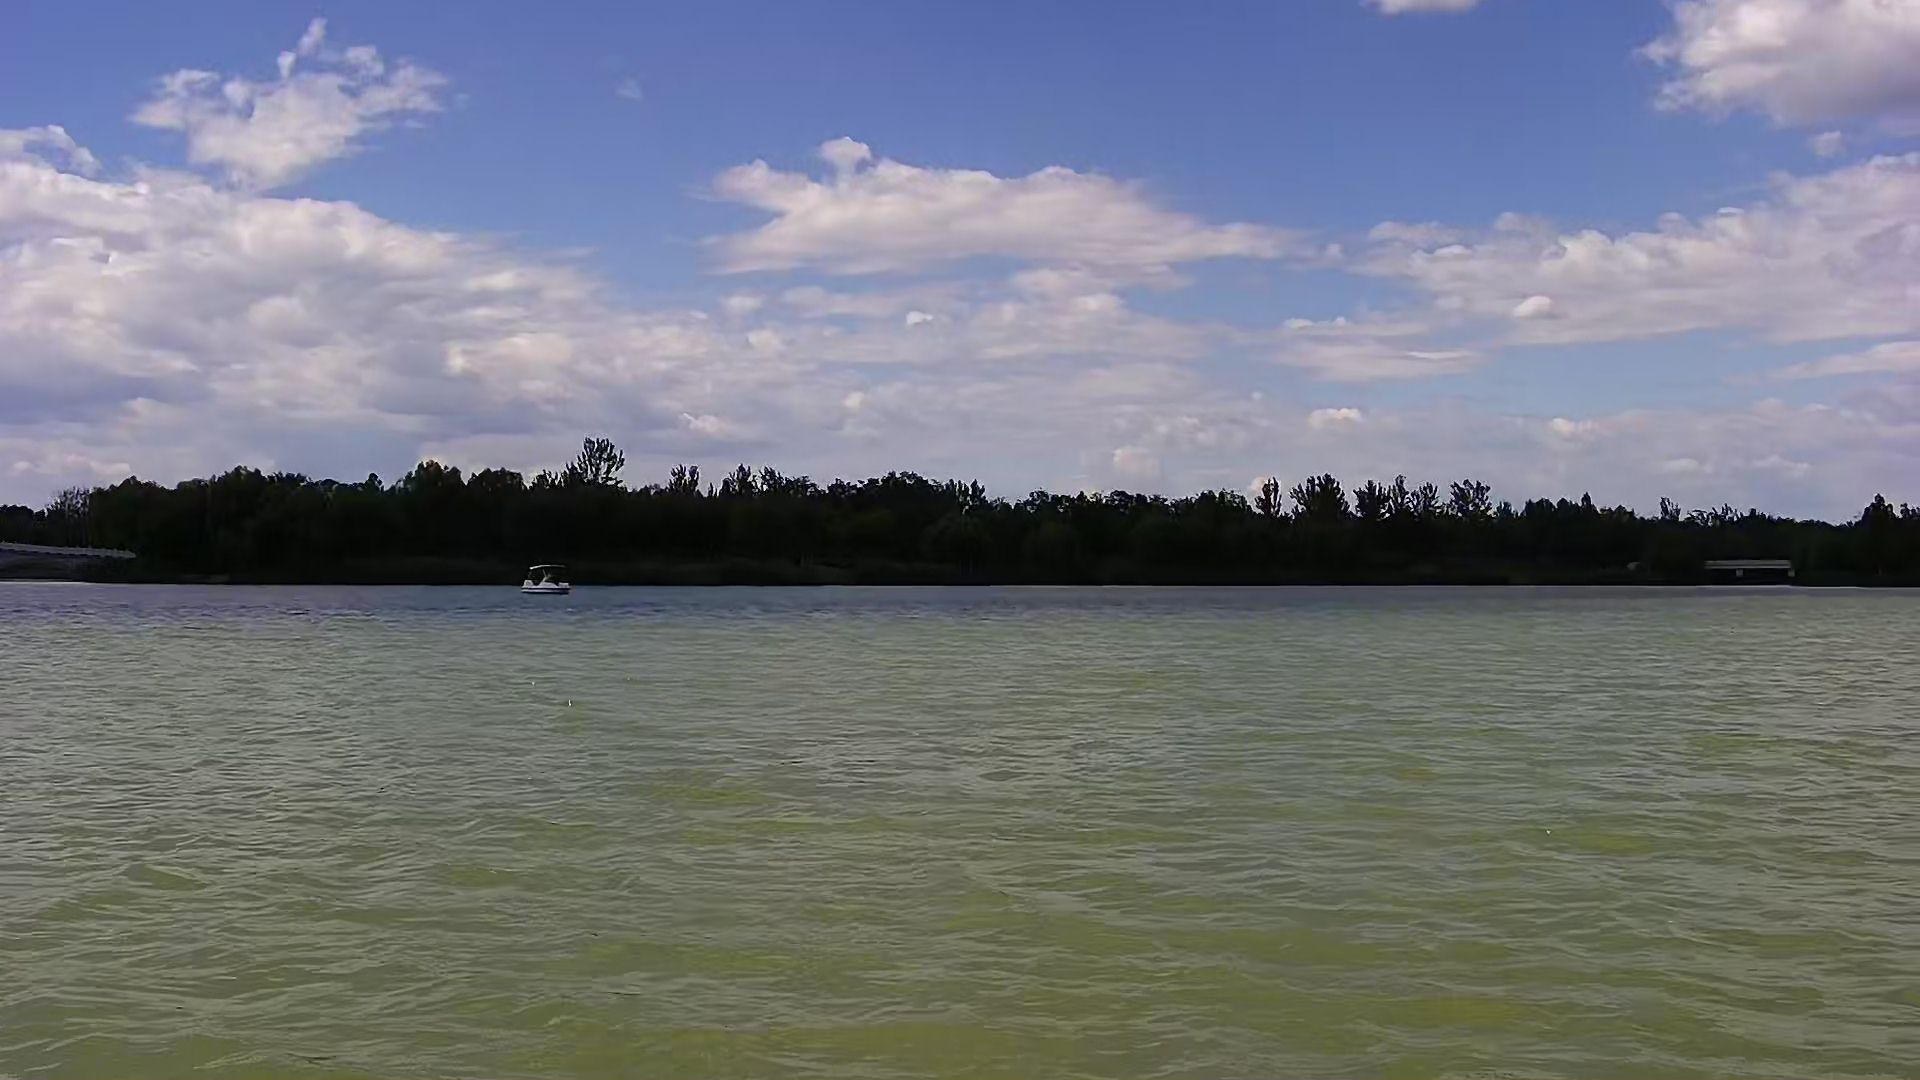boat: (512, 553, 585, 601)
